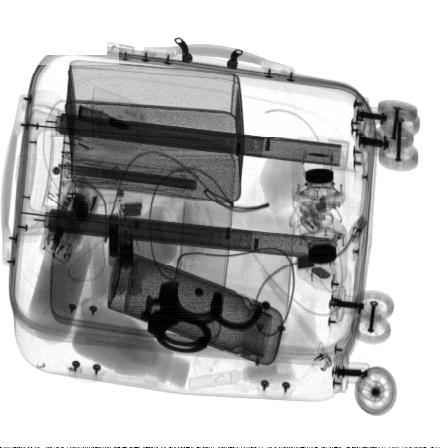Bullet: (77, 106, 129, 127)
HandCuffs: (141, 279, 263, 356)
